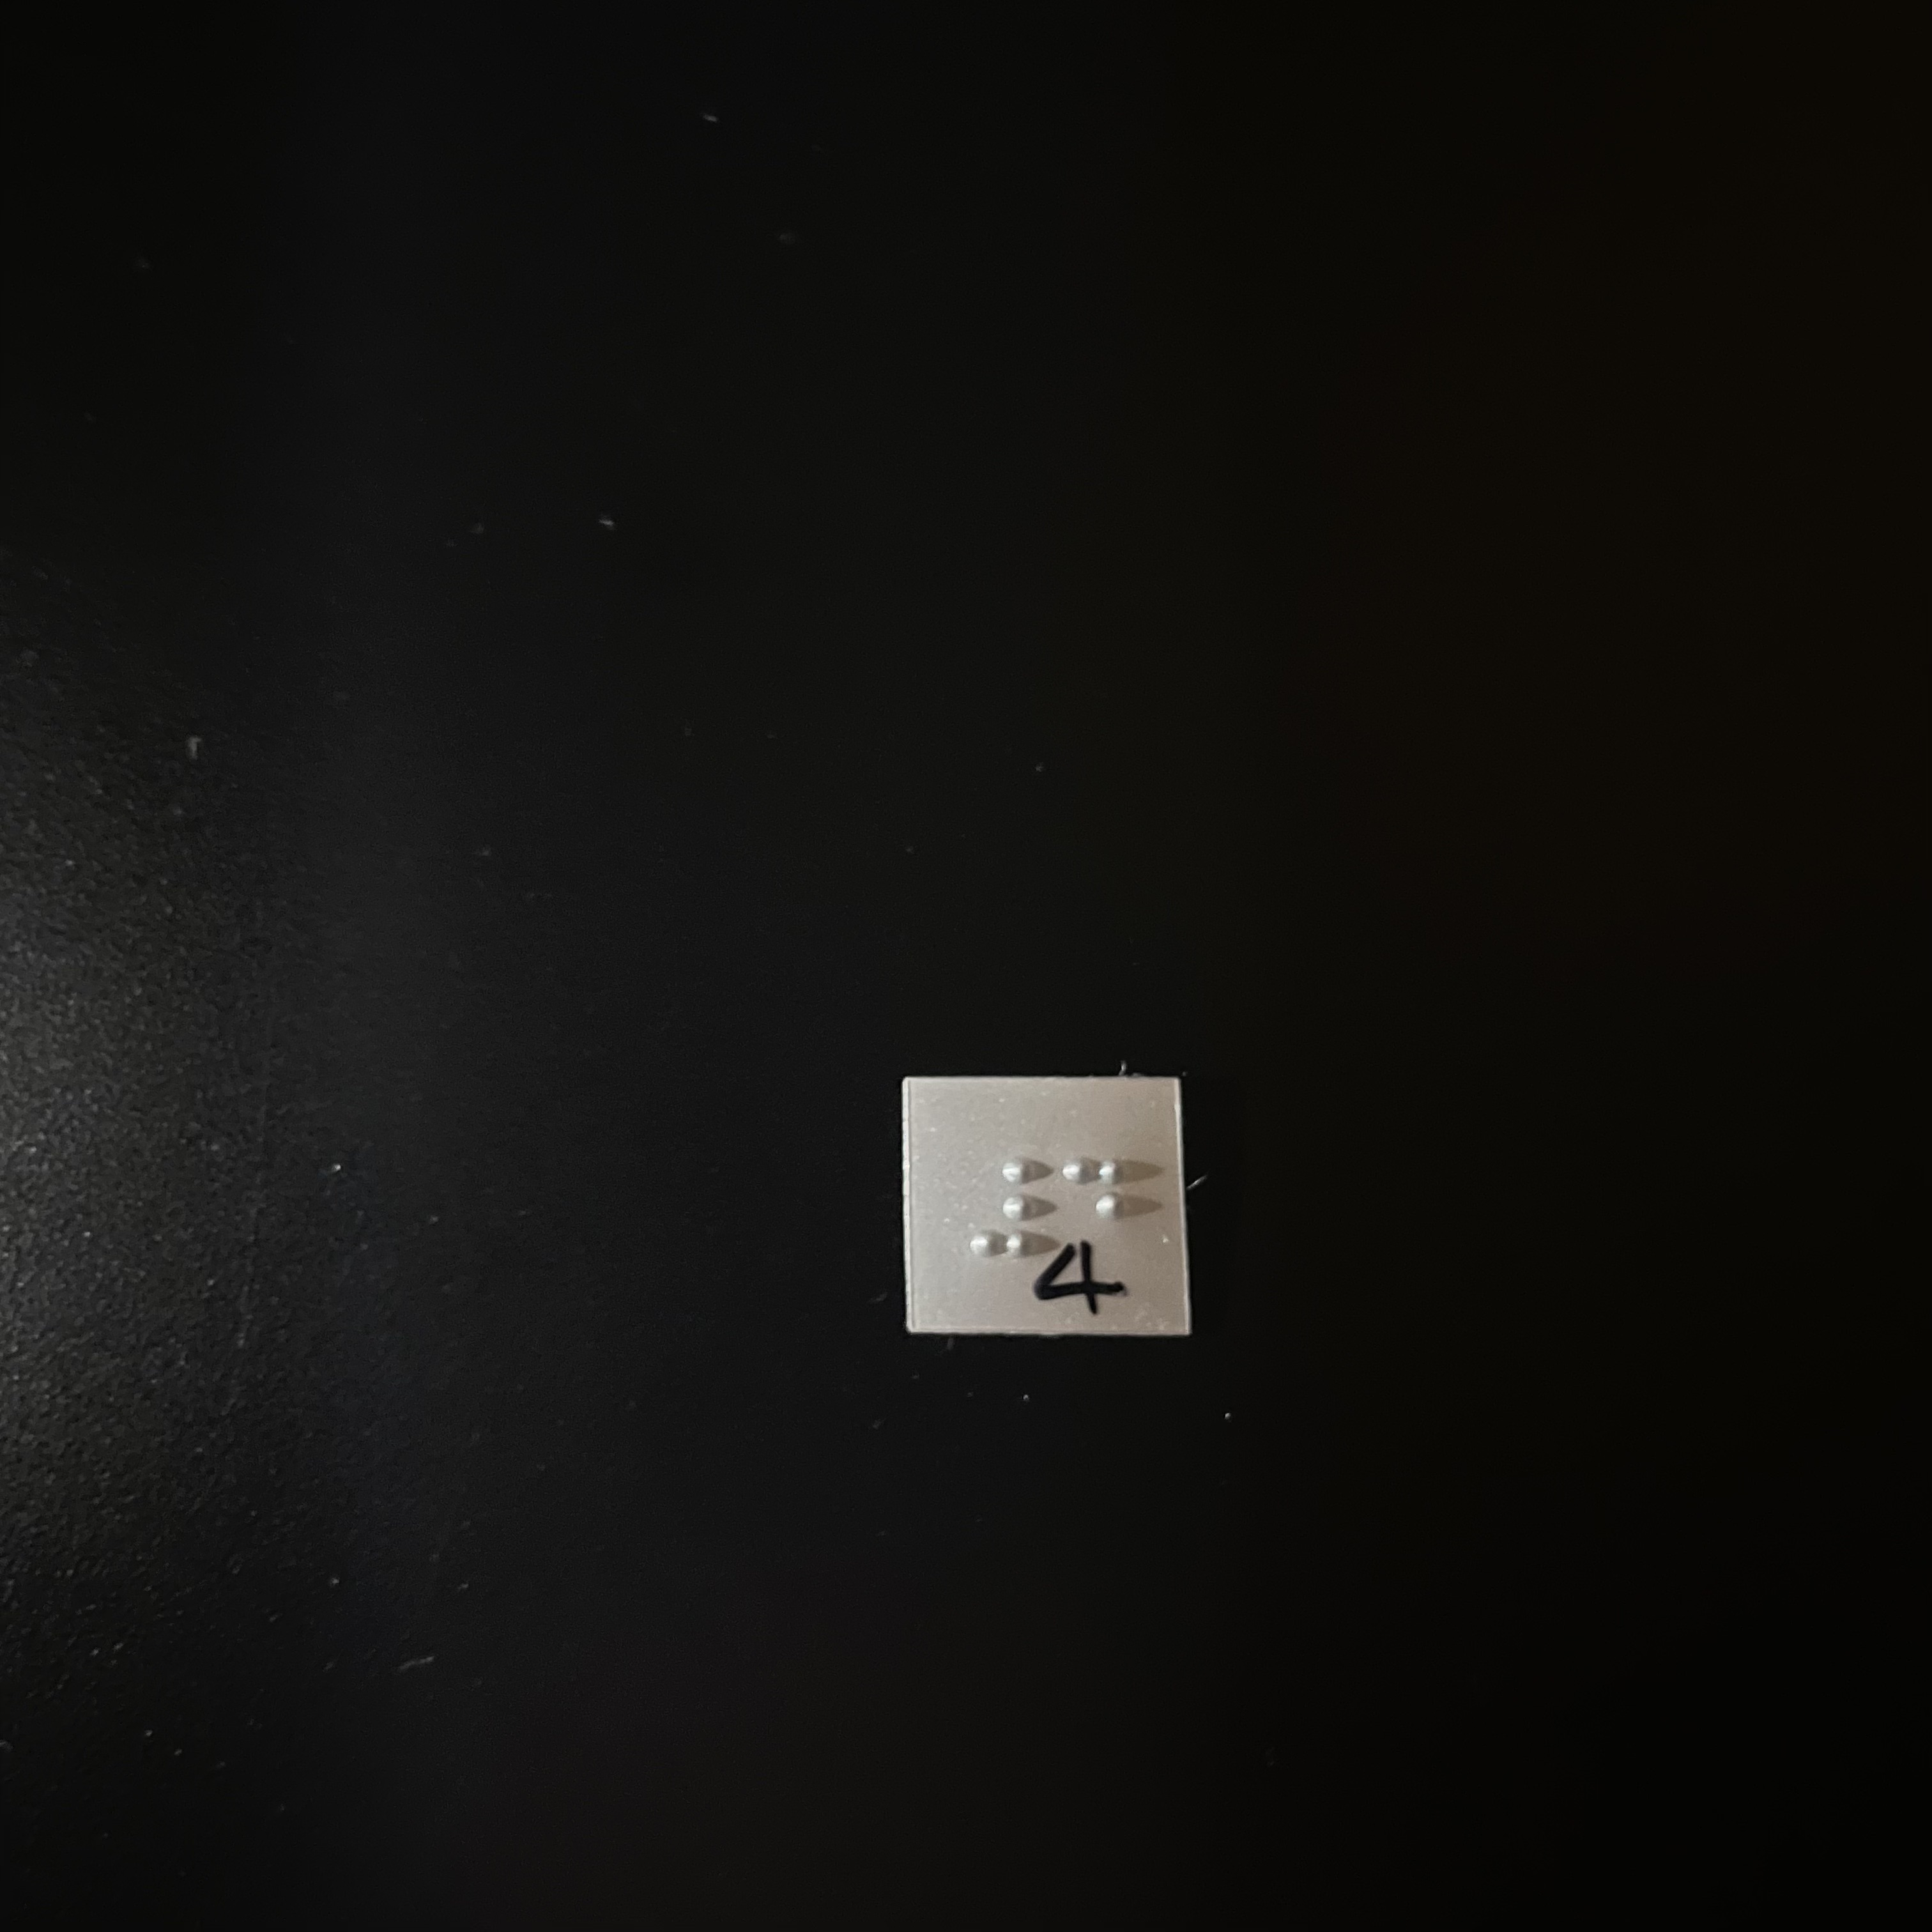#: (963, 1152, 1058, 1264)
d: (1062, 1152, 1155, 1269)
